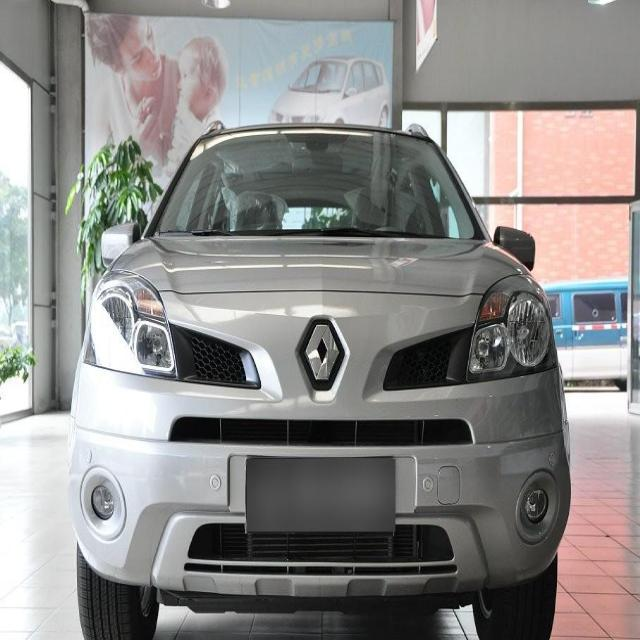front_bumper: (70, 361, 572, 596)
front_glass: (147, 131, 488, 238)
front_left_side_light: (465, 271, 558, 385)
front_left_side_mirror: (492, 221, 538, 271)
front_right_side_light: (83, 271, 177, 382)
front_right_side_mirror: (99, 222, 141, 274)
wheel: (78, 543, 148, 639), (486, 560, 558, 639)
